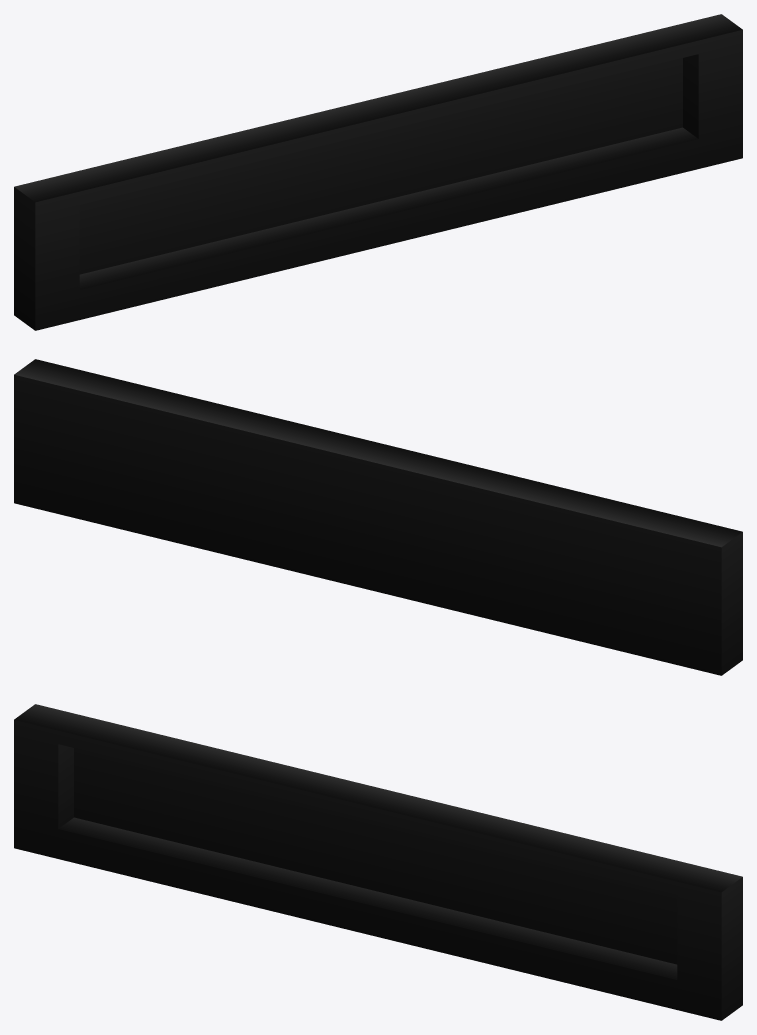
Rendered from vitrina.fbx.
3 views of the same model, one above another, from view 1: azimuth 30°, elevation 25°; view 2: azimuth 150°, elevation 25°; view 3: azimuth 330°, elevation 25° (orthographic).
Parts seen in each view (by area): view 1: Cube.004; view 2: Cube.004; view 3: Cube.004.
Part boxes in pixels (x1,y1,x2,y2): Cube.004: [14, 14, 742, 330]; Cube.004: [14, 359, 742, 675]; Cube.004: [14, 704, 742, 1020].
Size of the model in its own units: 7200 by 1250 by 377.
1 material, 1 textured.
